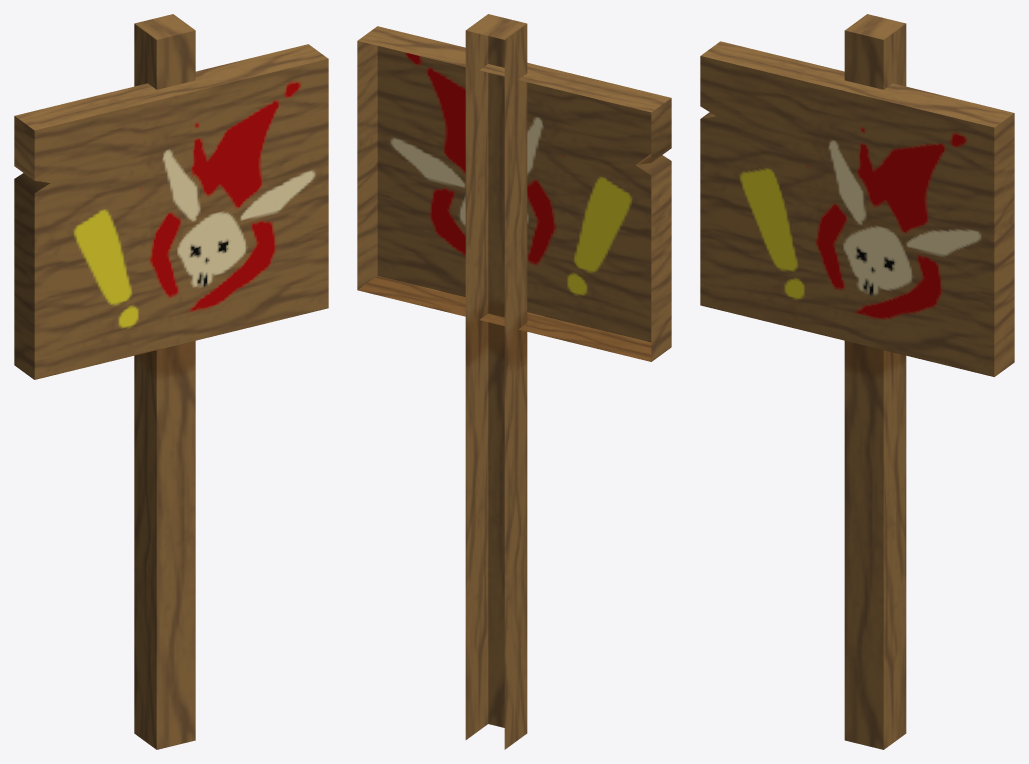
Rendered from FireSign.fbx.
3 renders of one model, left to right at view 1: azimuth 30°, elevation 25°; view 2: azimuth 150°, elevation 25°; view 3: azimuth 330°, elevation 25°, orthographic.
Parts seen in each view (by area): view 1: firesign; view 2: firesign; view 3: firesign.
Part boxes in pixels (x1,y1,x2,y2): firesign: (14, 14, 328, 749); firesign: (357, 14, 671, 749); firesign: (700, 14, 1014, 749).
Size of the model in its own units: 0.5771 by 1.33 by 0.1139.
1 material, 1 textured.
